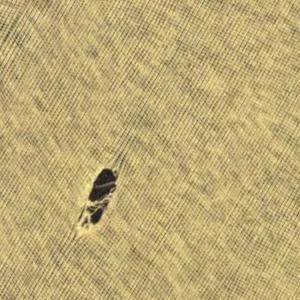hole: (69, 161, 120, 235)
